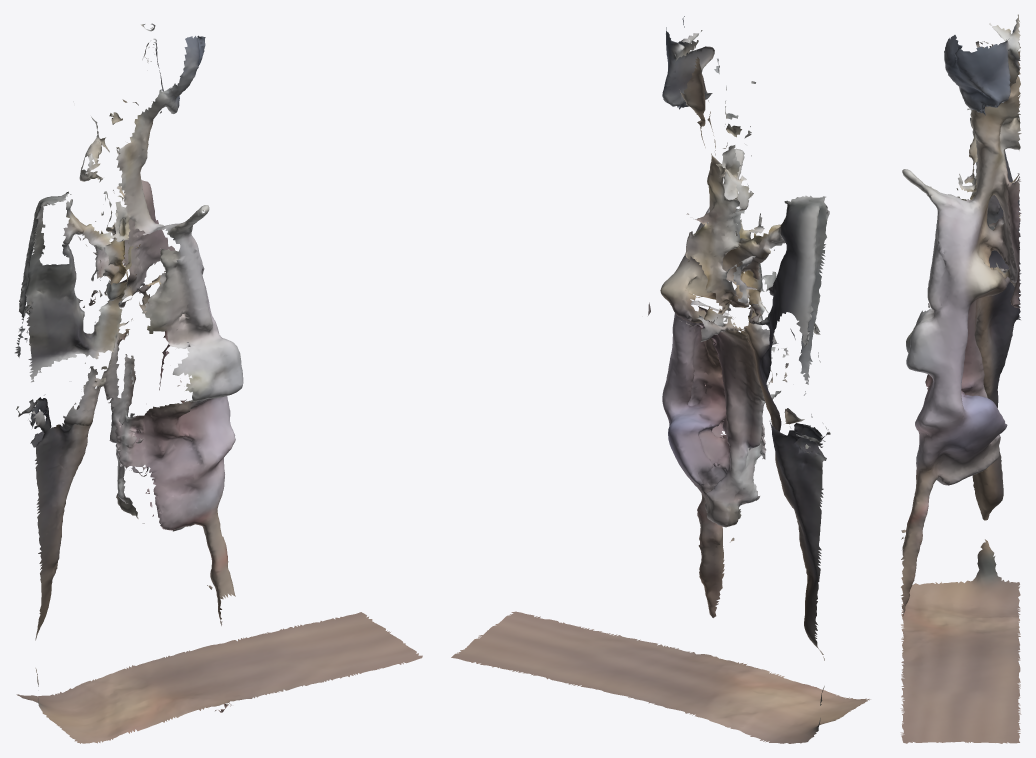
The model's file is apartment-full-74-0716f653dbc8.glb.
3 renders of one model, left to right at view 1: azimuth 30°, elevation 25°; view 2: azimuth 150°, elevation 25°; view 3: azimuth 270°, elevation 25°, orthographic. The views are drawn at different scales.
Bounding box in the file's own units: 0.985 × 1.82 × 0.315.
